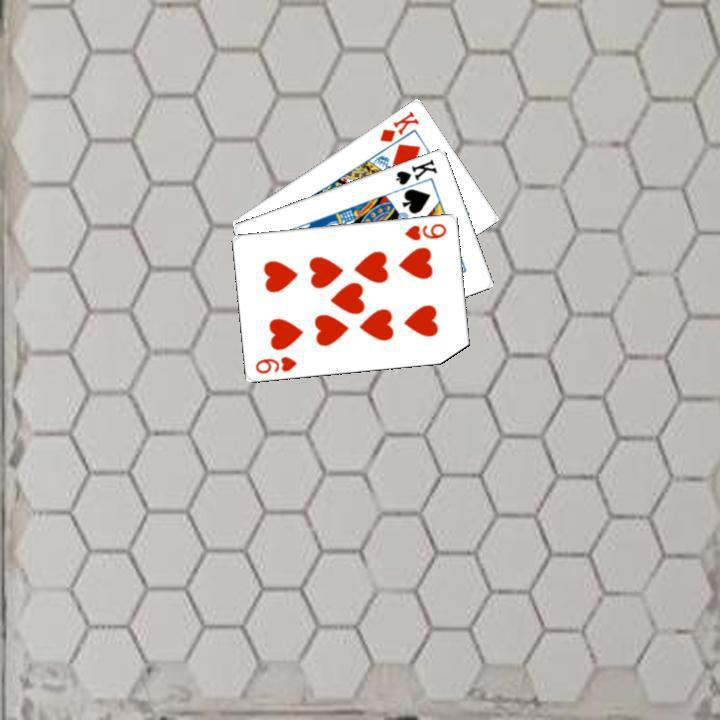9: (400, 218, 449, 242), (251, 352, 299, 375)
K: (375, 106, 421, 144), (391, 154, 439, 187)
